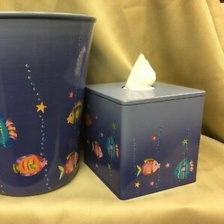plastic_box: (0, 5, 103, 202), (77, 75, 211, 205)
tissue: (119, 48, 161, 94)
